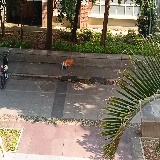fire: (64, 59, 73, 67)
